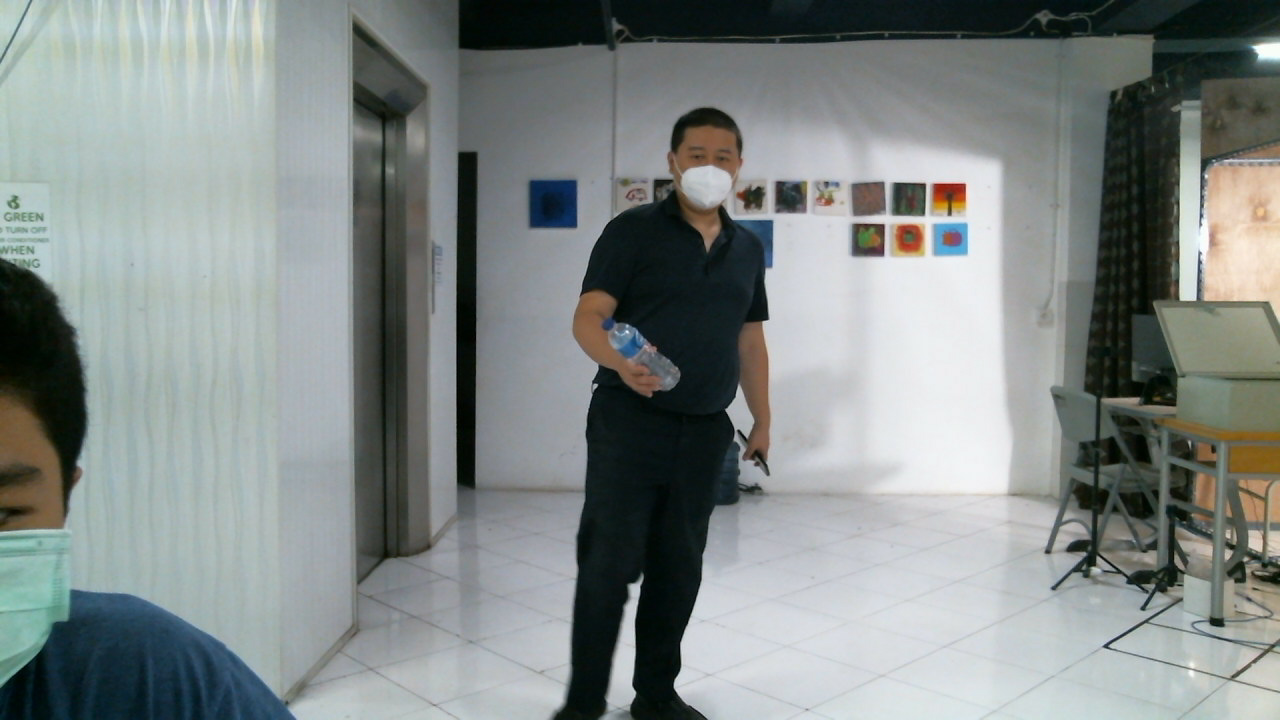Bottle: (602, 316, 682, 393)
